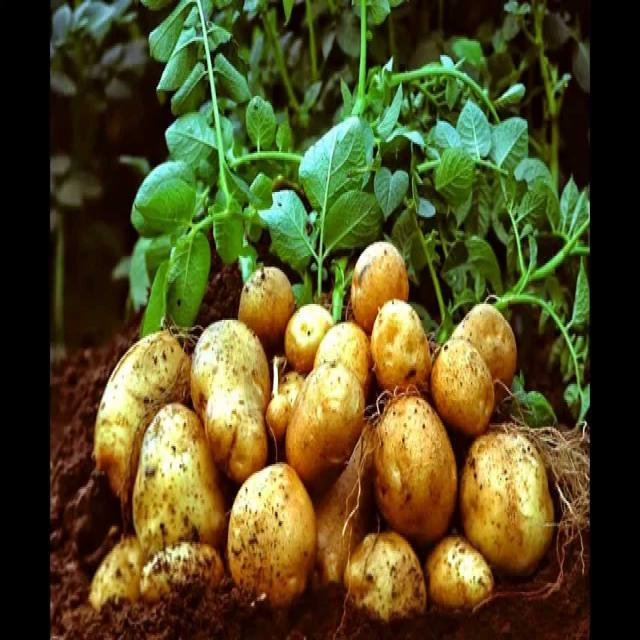potato: (186, 316, 272, 476), (463, 419, 554, 570), (229, 467, 314, 606), (377, 410, 458, 533), (283, 369, 369, 474), (339, 534, 433, 624), (432, 341, 495, 434), (372, 302, 434, 393)
